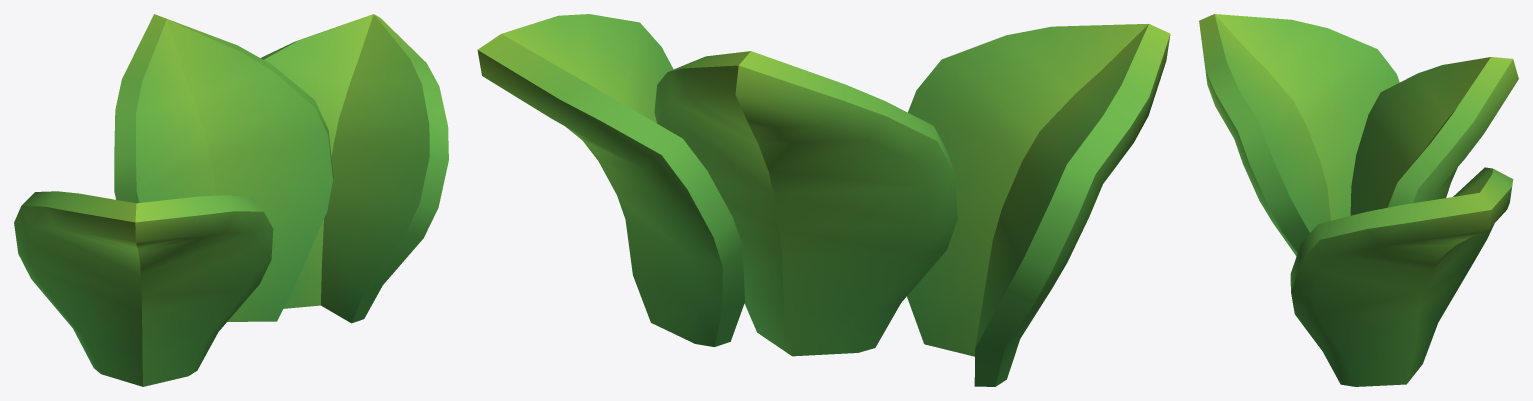
The model's file is Foliage B.glb.
3 renders of one model, left to right at view 1: azimuth 30°, elevation 25°; view 2: azimuth 150°, elevation 25°; view 3: azimuth 270°, elevation 25°, orthographic. The views are drawn at different scales.
Visible parts, largest first — view 1: foliage_B; view 2: foliage_B; view 3: foliage_B.
Boxes of the visible parts, bbox=[...] form: foliage_B: bbox=[14, 14, 448, 386]; foliage_B: bbox=[477, 14, 1170, 386]; foliage_B: bbox=[1199, 14, 1518, 386].
Size of the model in its own units: 0.7017 by 0.4319 by 0.4645.
Materials: 1 (1 with a texture image).
